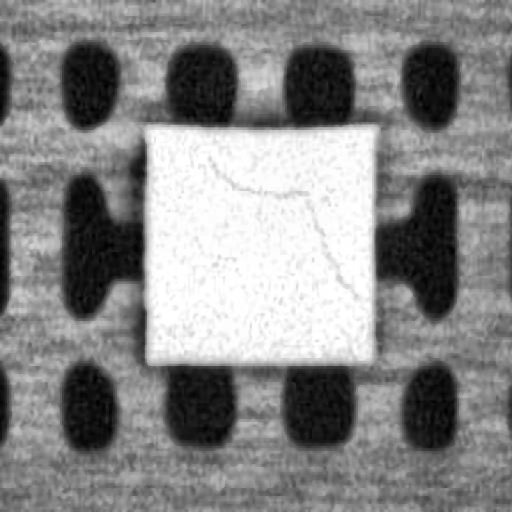DIE_CRACK: (208, 154, 354, 297)
